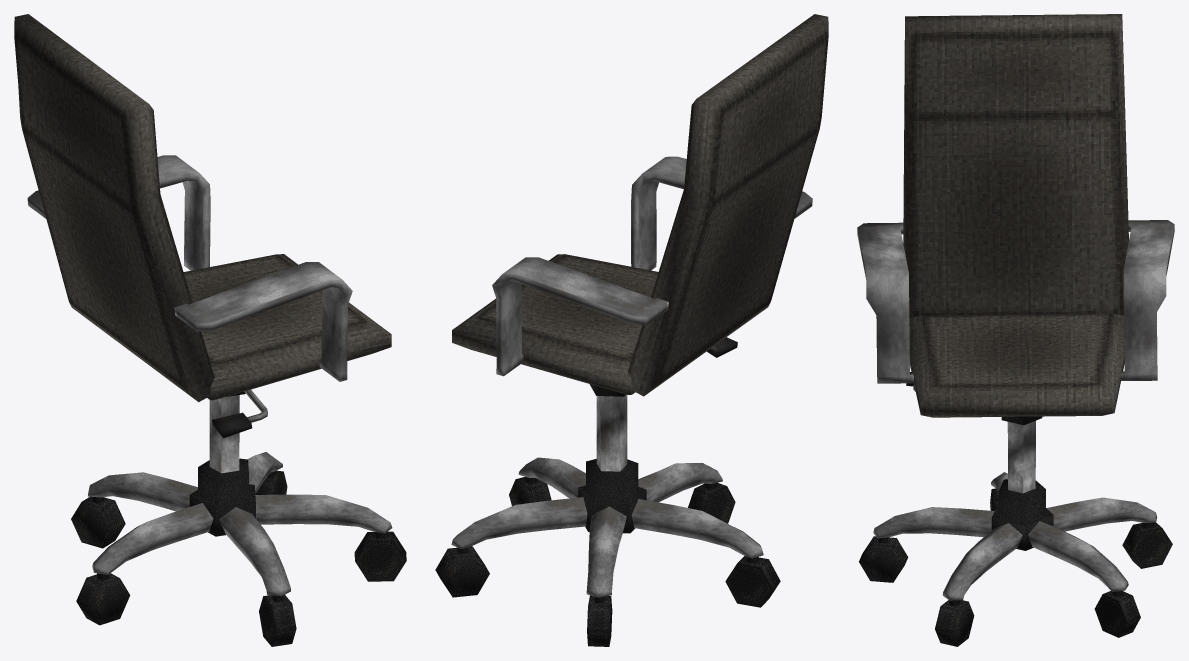
The model's file is chair.glb.
The picture shows the model from 3 angles, left to right: view 1: azimuth 30°, elevation 25°; view 2: azimuth 150°, elevation 25°; view 3: azimuth 270°, elevation 25°; orthographic projection. The views are drawn at different scales.
Parts seen in each view (by area): view 1: chair-col; view 2: chair-col; view 3: chair-col.
Boxes of the visible parts, x1,y1,x2,y2 form: chair-col: [14, 14, 406, 646]; chair-col: [435, 14, 828, 646]; chair-col: [857, 14, 1174, 646].
Bounding box in the file's own units: 1.63 × 2.88 × 1.64.
1 material, 1 textured.
